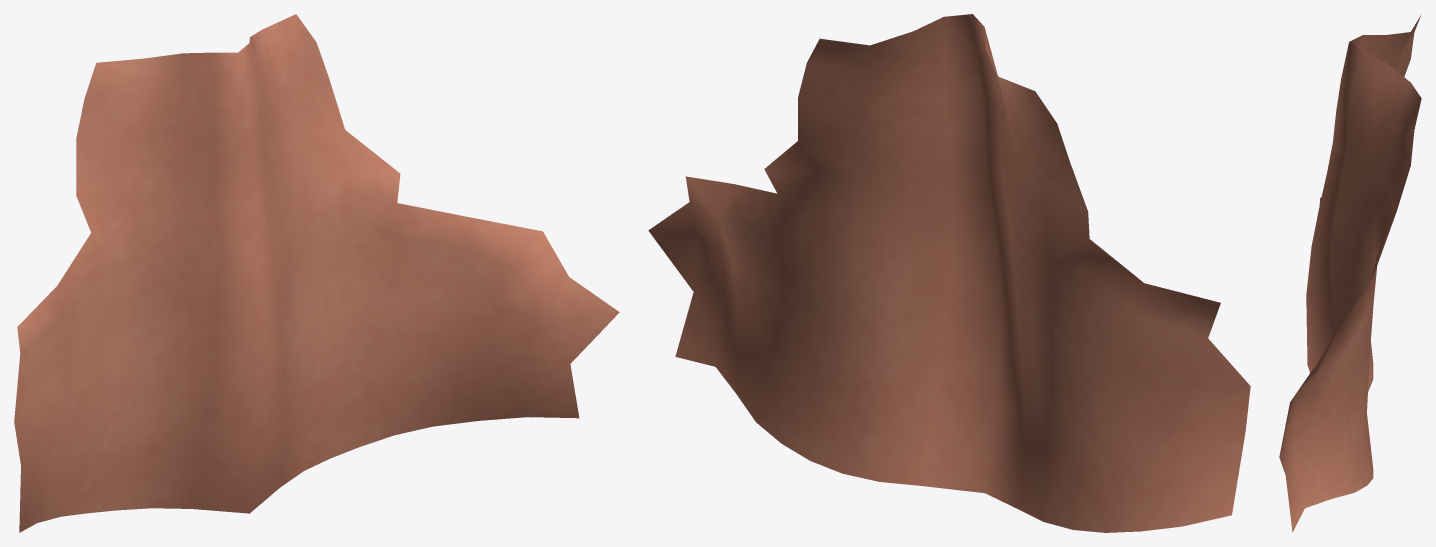
The model's file is midback.glb.
3 views of the same model, side by side, from view 1: azimuth 30°, elevation 25°; view 2: azimuth 150°, elevation 25°; view 3: azimuth 270°, elevation 25° (orthographic). The views are drawn at different scales.
Visible parts, largest first — view 1: midback; view 2: midback; view 3: midback.
Part boxes in pixels (x1,y1,x2,y2): midback: [14, 14, 619, 532]; midback: [648, 14, 1250, 532]; midback: [1279, 15, 1421, 532].
Size of the model in its own units: 0.0188 by 0.014 by 0.00461.
1 material, 1 textured.
